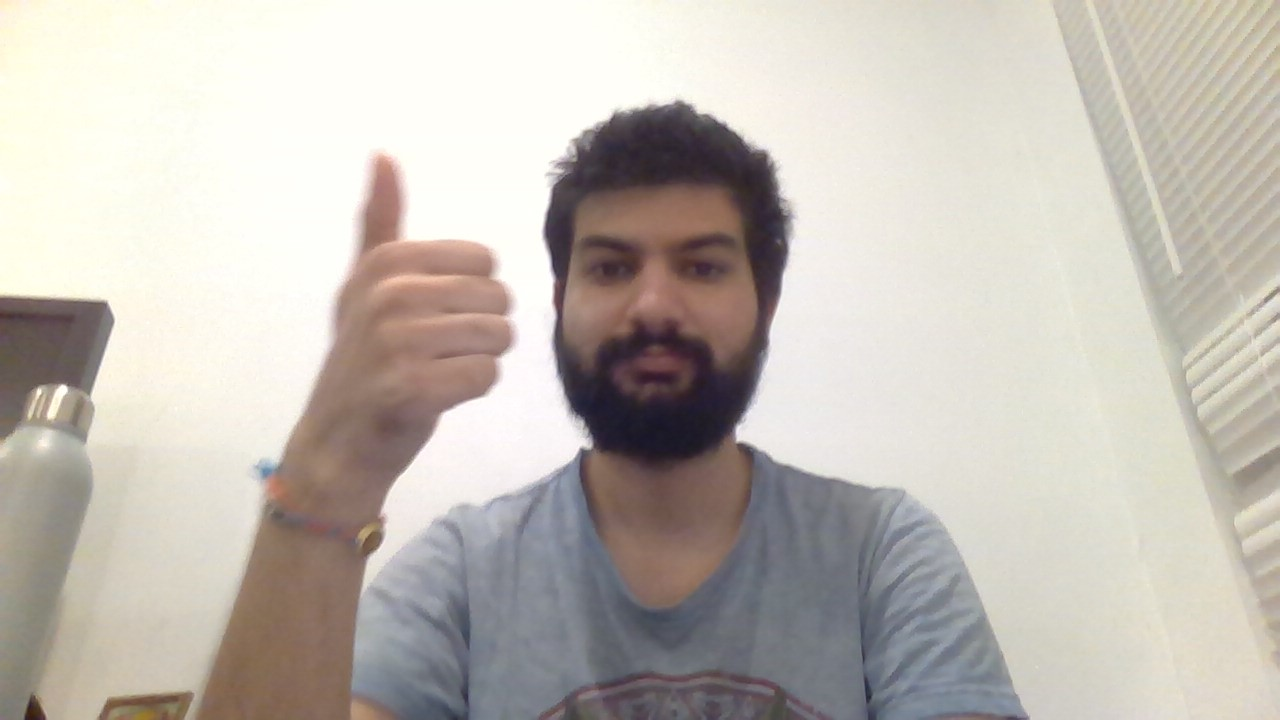up: (312, 138, 519, 432)
